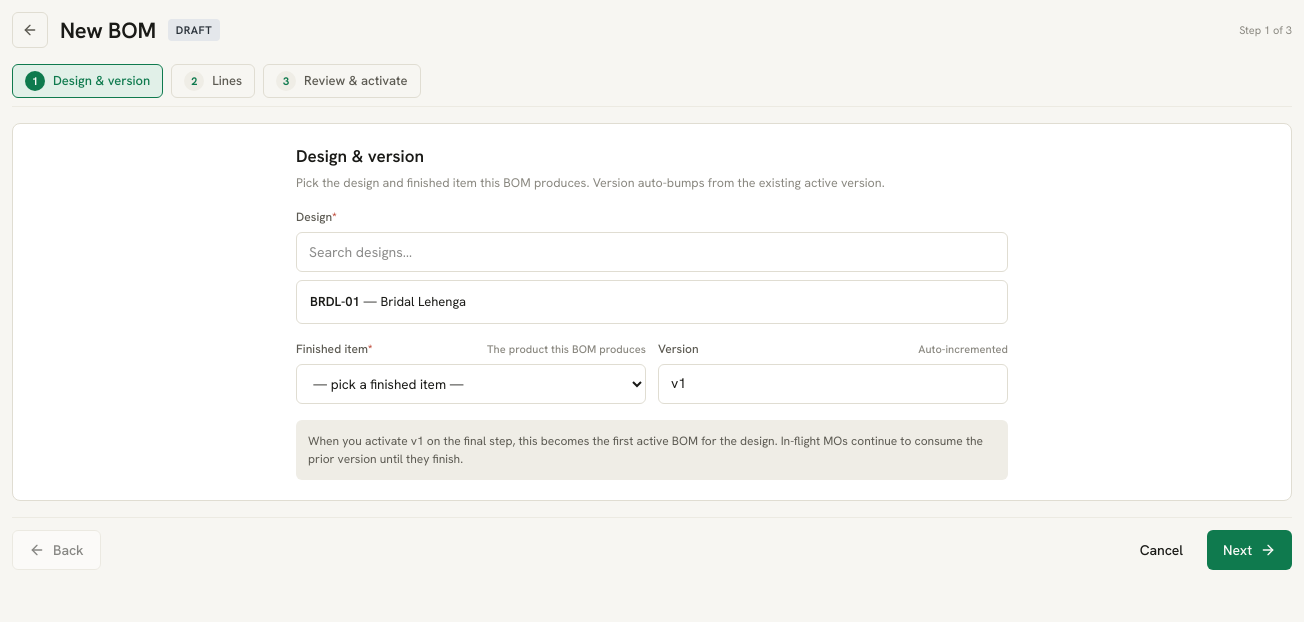
Test: BomCreateWizard — submit › surfaces a banner when advancing to Review without any valid lines
Click the option "BRDL-01 — Bridal Lehenga": (335, 302) x1=301 y1=285 x2=1003 y2=319
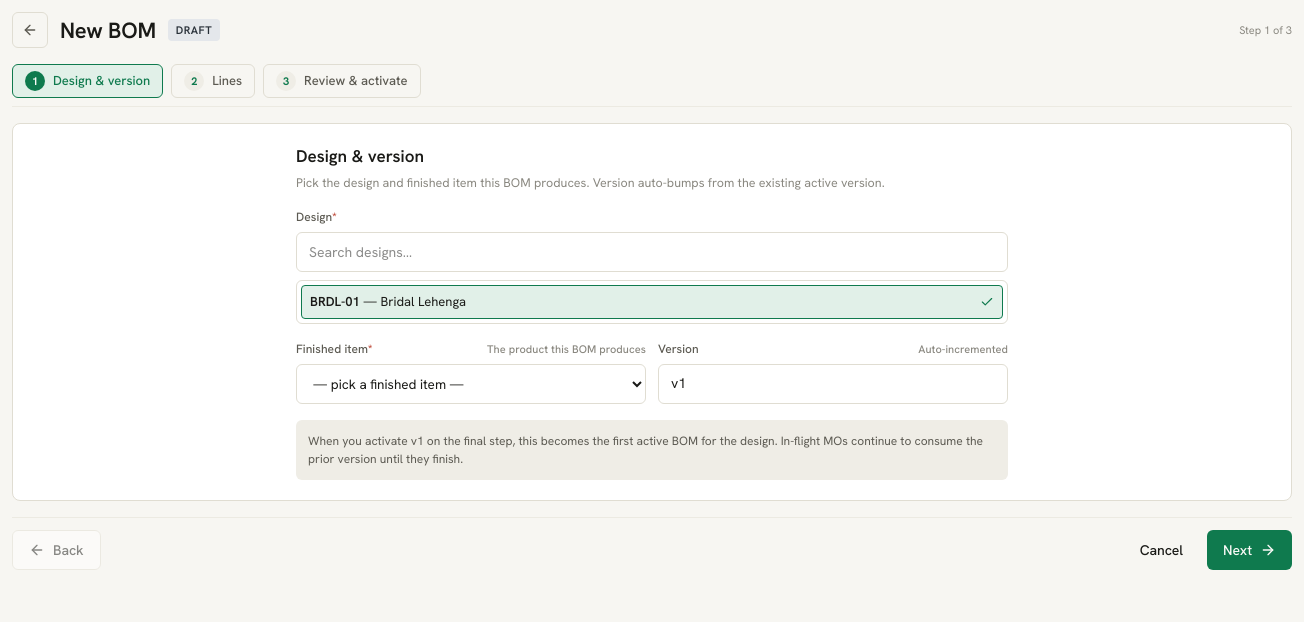
Select "FIN-BRDL — Bridal Lehenga Set" in the dropdown labelled "Finished item* The product this BOM produces": (471, 384) x1=296 y1=364 x2=646 y2=404
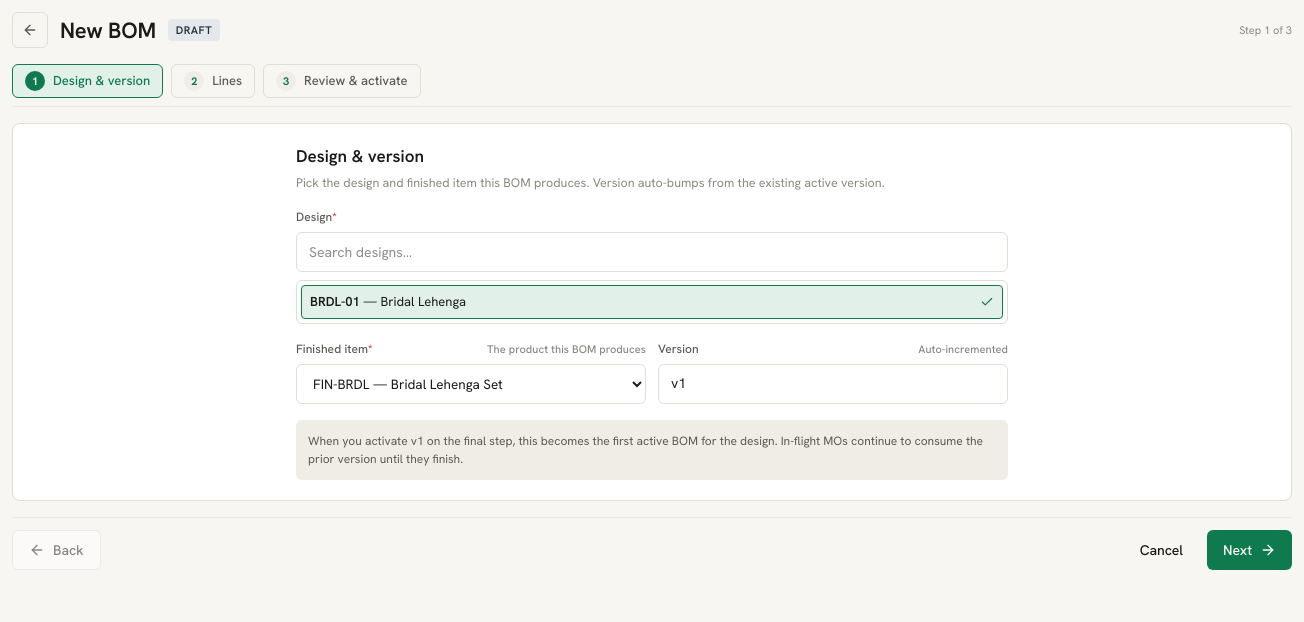
Click the button "Next": (1250, 550) x1=1207 y1=530 x2=1292 y2=570
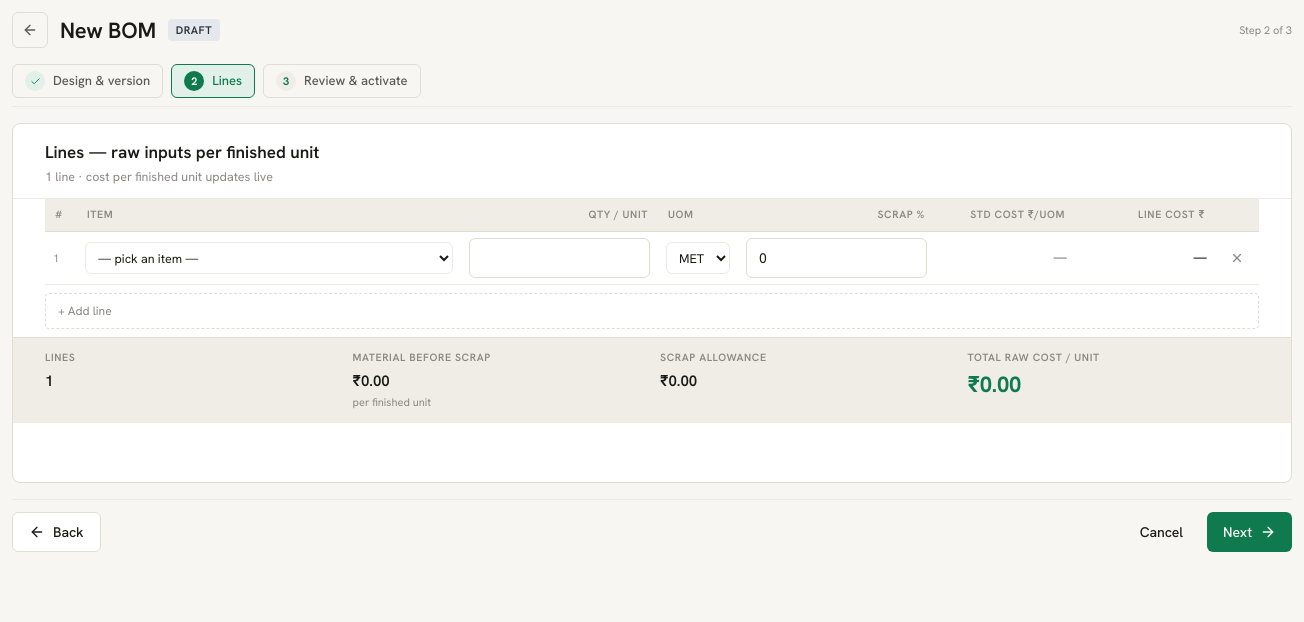
Result: the tab "2 Lines" is selected at x1=171 y1=64 x2=255 y2=98
Don't pick an item / qty — try to advance.
Click the button "Next": (1250, 532) x1=1207 y1=512 x2=1292 y2=552
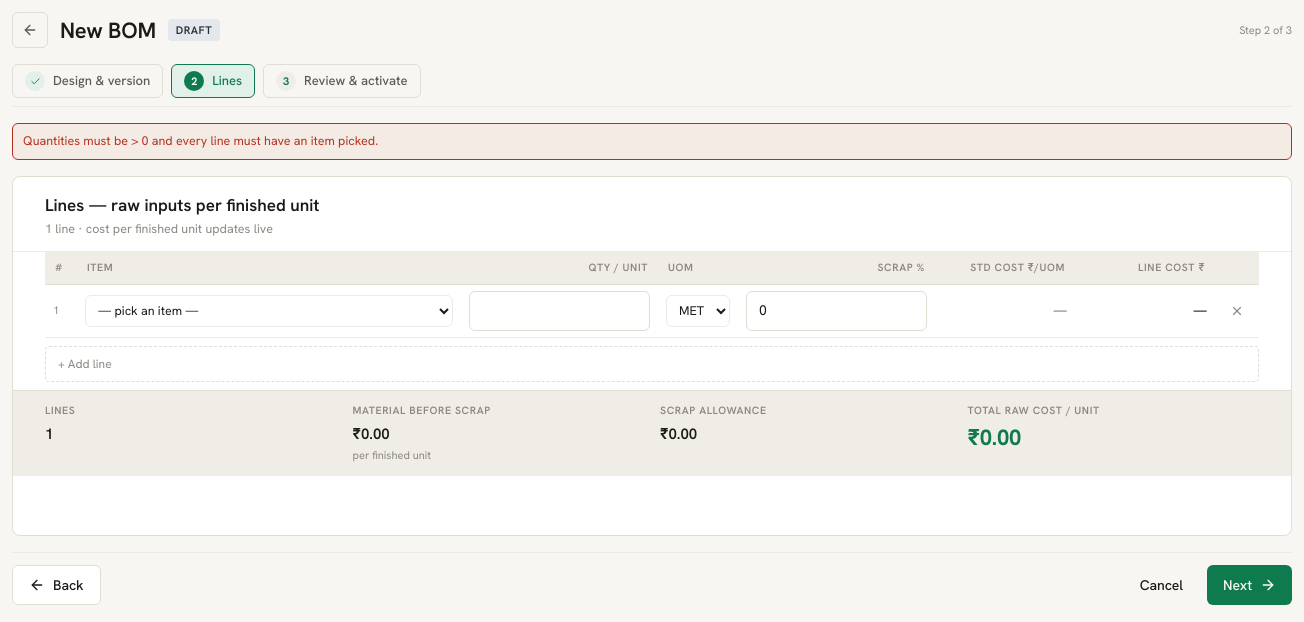
Result: the message "Quantities must be > 0 and every line must have an item picked." is shown at x1=12 y1=123 x2=1292 y2=160
